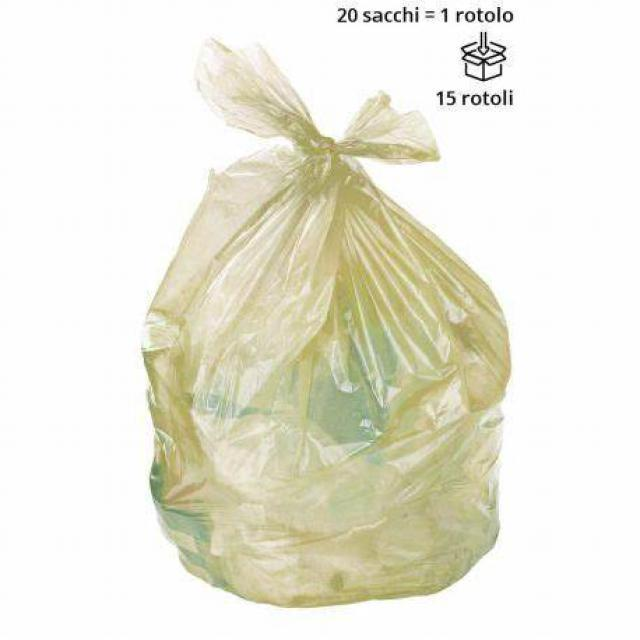waste: (124, 34, 508, 592)
